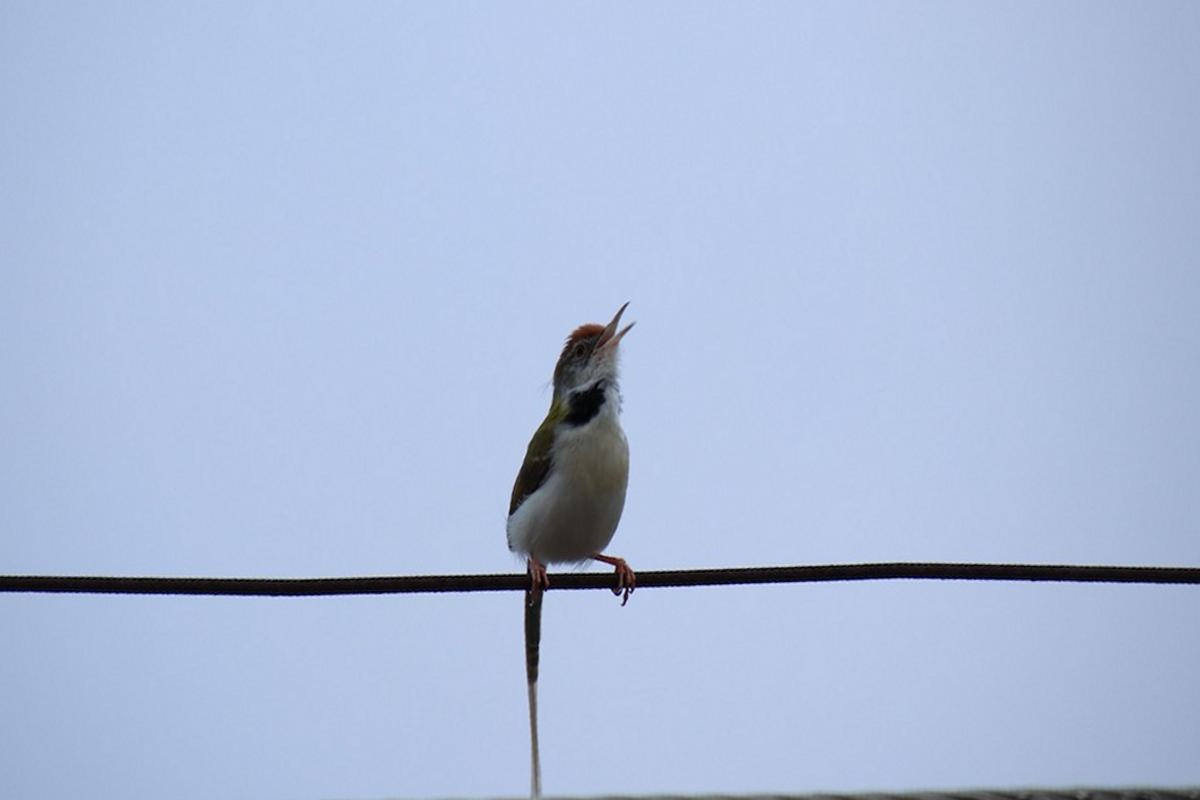tailorbird: (480, 270, 666, 705)
